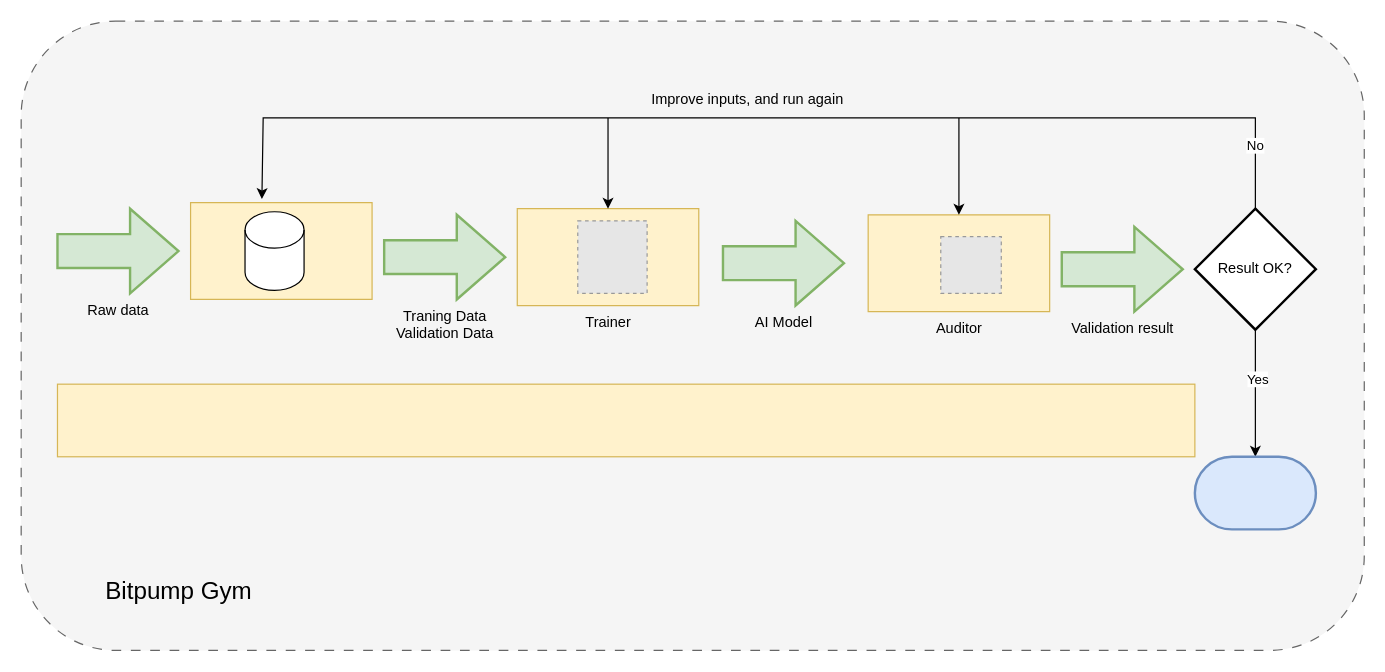
Image size: 1385x672. Some labels were removed from this diagram. Grey dashed boxes stand in for pictures. The shapes that lost their labels are listed below. From the top down, each one's box as (x1, y1, x2, y2) in pixels, then its label:
(189, 201, 372, 299): Data incubator
(56, 383, 1195, 457): Freezer
(1193, 455, 1316, 530): Use Model!
